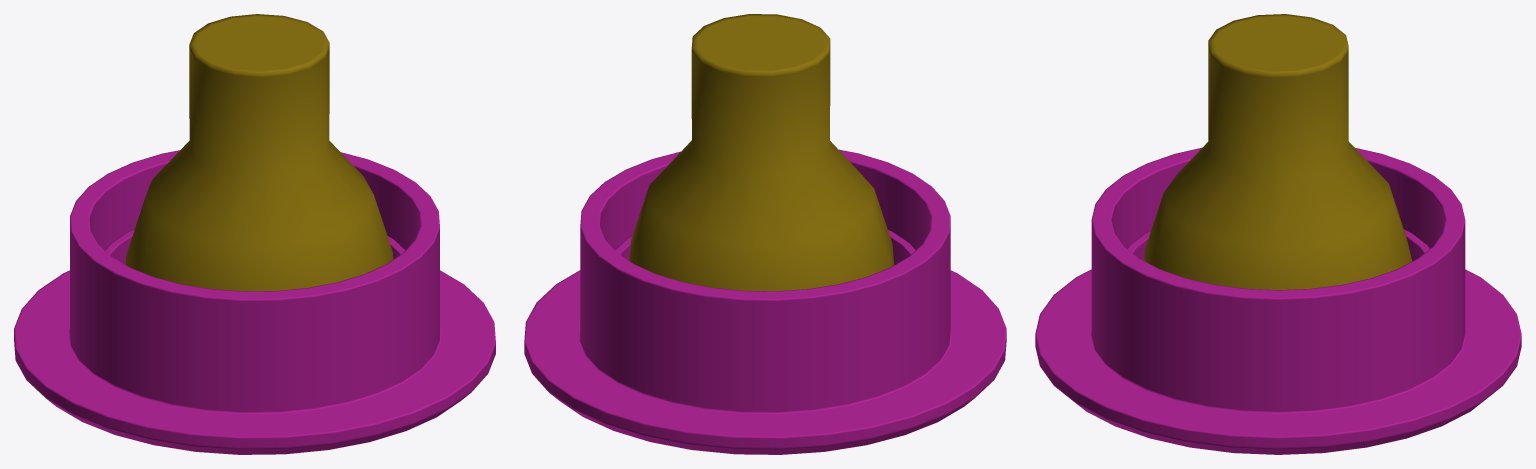
Rendered from light.obj.
3 renders of one model, left to right at view 1: azimuth 30°, elevation 25°; view 2: azimuth 150°, elevation 25°; view 3: azimuth 270°, elevation 25°, orthographic.
Parts seen in each view (by area): view 1: Rectangle042, Bulb_GU10_led_004, Rectangle043; view 2: Rectangle042, Bulb_GU10_led_004, Rectangle043; view 3: Rectangle042, Bulb_GU10_led_004, Rectangle043.
Boxes of the visible parts, x1,y1,x2,y2 form: Rectangle042: (14,150,495,454); Bulb_GU10_led_004: (125,14,393,291); Rectangle043: (105,229,405,264); Rectangle042: (524,149,1006,454); Bulb_GU10_led_004: (629,14,894,291); Rectangle043: (615,230,915,264); Rectangle042: (1035,148,1521,454); Bulb_GU10_led_004: (1144,14,1412,289); Rectangle043: (1127,229,1429,261).
Size of the model in its own units: 80 by 57.3 by 80.
